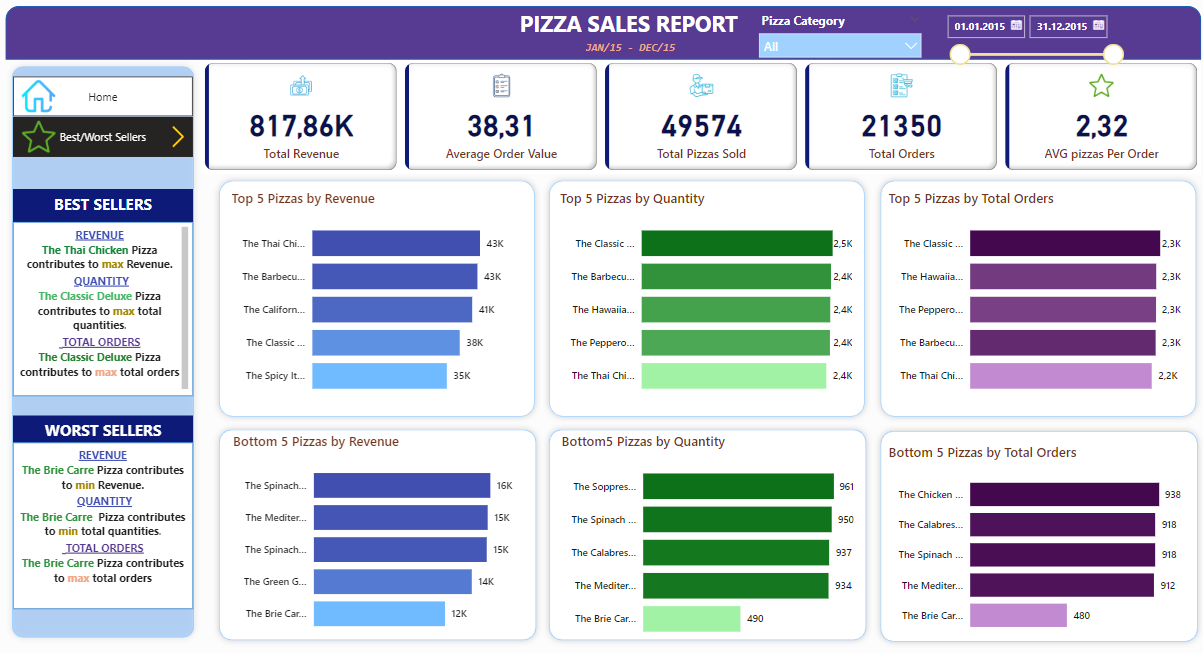

This screenshot's page, from the dashboard's own definition file:
{"tool":"powerbi","page":{"name":"Best/Worst Sellers","canvas":[1500,820],"ordinal":1},"visuals":[{"type":"cardVisual","fields":{"Data":["public pizzas.Total Revenue","public pizzas.Average Order Value","public pizzas.Total Pizzas Sold","public pizzas.Total Orders","public pizzas.AVG pizzas Per Order"]},"box":[256,80,1230,142],"z":0},{"type":"shape","box":[16.6,81.2,240,718],"z":1000},{"type":"shape","box":[16,14,1470,66],"z":2000},{"type":"textbox","box":[632,12,308,54],"z":3000},{"type":"textbox","box":[724,50,142,30],"z":4000},{"type":"shape","box":[271.3,221.5,404.2,306.4],"z":5000},{"type":"textbox","box":[25.8,240,221.5,40.6],"z":15000},{"type":"textbox","box":[25.8,280.6,221.5,214.1],"z":16000},{"type":"textbox","box":[25.8,518.7,221.5,40.6],"z":17000},{"type":"textbox","box":[25.8,551.9,221.5,204.9],"z":18000},{"type":"slicer","fields":{"Values":["public pizzas.pizza_category"]},"box":[934,16.6,219.7,66.4],"z":19000},{"type":"slicer","fields":{"Values":["public pizzas.order_date"]},"box":[1161,16.6,238.1,83.1],"z":20000},{"type":"shape","box":[271.3,527.9,406.1,275],"z":20001},{"type":"shape","box":[677.4,221.5,404.2,306.4],"z":20002},{"type":"shape","box":[1083.5,221.5,404.2,306.4],"z":20003},{"type":"shape","box":[677.4,527.9,406.1,275],"z":20004},{"type":"shape","box":[1083.5,529.7,406.1,275],"z":20005},{"type":"barChart","title":"Top 5 Pizzas by Revenue","fields":{"Category":["public pizzas.pizza_name"],"Y":["public pizzas.Total Revenue"]},"box":[289.8,240,365.5,267.6],"z":20006},{"type":"barChart","title":"Bottom 5 Pizzas by Revenue","fields":{"Category":["public pizzas.pizza_name"],"Y":["public pizzas.Total Revenue"]},"box":[291.6,539,365.5,260.3],"z":20007},{"type":"barChart","title":"Top 5 Pizzas by Quantity","fields":{"Category":["public pizzas.pizza_name"],"Y":["public pizzas.Total Pizzas Sold"]},"box":[694,240,369.2,267.6],"z":20008},{"type":"barChart","title":"Bottom5 Pizzas by Quantity","fields":{"Category":["public pizzas.pizza_name"],"Y":["public pizzas.Total Pizzas Sold"]},"box":[695.9,539,369.2,267.6],"z":20009},{"type":"barChart","title":"Top 5 Pizzas by Total Orders","fields":{"Category":["public pizzas.pizza_name"],"Y":["public pizzas.Total Orders"]},"box":[1096.4,240,369.2,267.6],"z":20010},{"type":"barChart","title":"Bottom 5 Pizzas by Total Orders","fields":{"Category":["public pizzas.pizza_name"],"Y":["public pizzas.Total Orders"]},"box":[1096.4,551.9,369.2,247.3],"z":20011},{"type":"pageNavigator","box":[25.8,151.4,221.5,49.8],"z":20012},{"type":"pageNavigator","box":[25.8,101.5,221.5,49.8],"z":20013},{"type":"image","box":[25.8,99.7,62.8,51.7],"z":20014},{"type":"image","box":[210.4,149.5,36.9,51.7],"z":20015},{"type":"image","box":[29.5,149.5,55.4,51.7],"z":20016}]}

Visuals, with their boxes in screenshot pixels (x1, y1, x2, y2), scaled from the page's 1500x820 canvas onto the 1203x653 screenshot:
cardVisual - public pizzas.Total Revenue x public pizzas.Average Order Value: box=[205, 64, 1192, 177]
shape: box=[13, 65, 206, 636]
shape: box=[13, 11, 1192, 64]
textbox: box=[507, 10, 754, 53]
textbox: box=[581, 40, 695, 64]
shape: box=[218, 176, 542, 420]
textbox: box=[21, 191, 198, 223]
textbox: box=[21, 223, 198, 394]
textbox: box=[21, 413, 198, 445]
textbox: box=[21, 440, 198, 603]
slicer - public pizzas.pizza_category: box=[749, 13, 925, 66]
slicer - public pizzas.order_date: box=[931, 13, 1122, 79]
shape: box=[218, 420, 543, 639]
shape: box=[543, 176, 867, 420]
shape: box=[869, 176, 1193, 420]
shape: box=[543, 420, 869, 639]
shape: box=[869, 422, 1195, 641]
"Top 5 Pizzas by Revenue" barChart: box=[232, 191, 526, 404]
"Bottom 5 Pizzas by Revenue" barChart: box=[234, 429, 527, 637]
"Top 5 Pizzas by Quantity" barChart: box=[557, 191, 853, 404]
"Bottom5 Pizzas by Quantity" barChart: box=[558, 429, 854, 642]
"Top 5 Pizzas by Total Orders" barChart: box=[879, 191, 1175, 404]
"Bottom 5 Pizzas by Total Orders" barChart: box=[879, 440, 1175, 636]
pageNavigator: box=[21, 121, 198, 160]
pageNavigator: box=[21, 81, 198, 120]
image: box=[21, 79, 71, 121]
image: box=[169, 119, 198, 160]
image: box=[24, 119, 68, 160]
